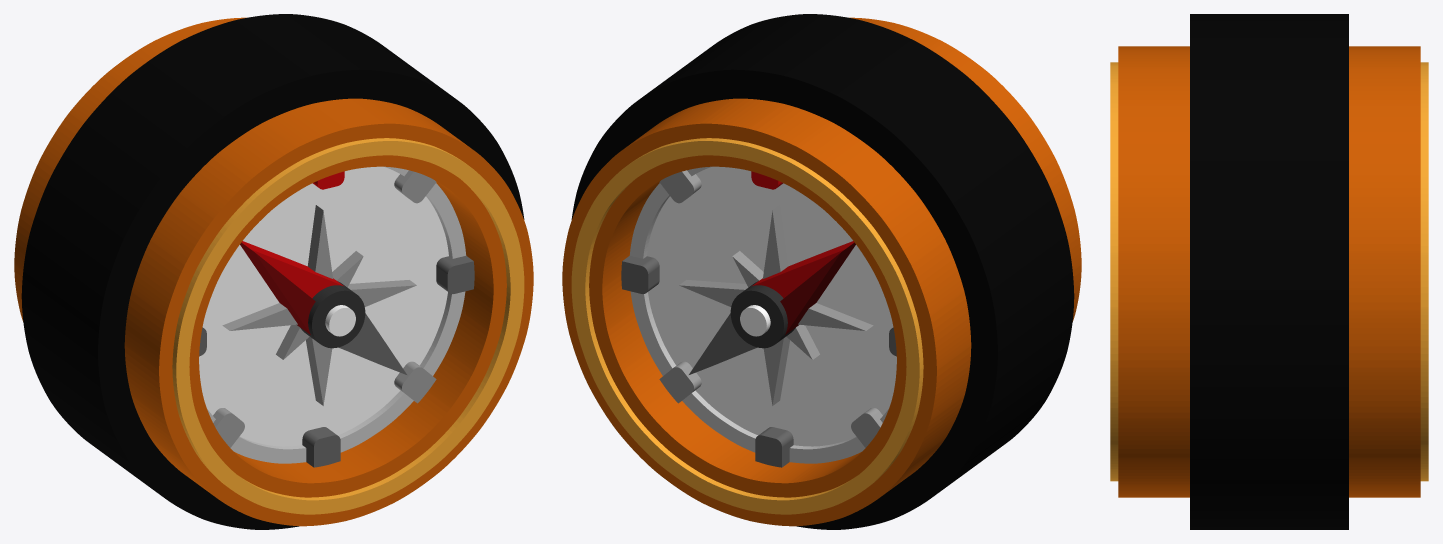
The picture shows the model from 3 angles, left to right: view 1: azimuth 30°, elevation 25°; view 2: azimuth 150°, elevation 25°; view 3: azimuth 270°, elevation 25°; orthographic projection. The views are drawn at different scales.
Visible parts, largest first — view 1: U+1F9ED_layer00_obj00, U+1F9ED_layer09_obj00, U+1F9ED_layer01_obj00, U+1F9ED_layer10_obj00, U+1F9ED_layer03_obj00, U+1F9ED_layer02_obj00, U+1F9ED_layer04_obj00, U+1F9ED_layer07_obj00, U+1F9ED_layer05_obj00, U+1F9ED_layer06_obj00, U+1F9ED_layer08_obj00; view 2: U+1F9ED_layer00_obj00, U+1F9ED_layer09_obj00, U+1F9ED_layer01_obj00, U+1F9ED_layer10_obj00, U+1F9ED_layer03_obj00, U+1F9ED_layer02_obj00, U+1F9ED_layer04_obj00, U+1F9ED_layer07_obj00, U+1F9ED_layer05_obj00, U+1F9ED_layer06_obj00, U+1F9ED_layer08_obj00; view 3: U+1F9ED_layer00_obj00, U+1F9ED_layer09_obj00, U+1F9ED_layer10_obj00.
Part boxes in pixels (x1=…): U+1F9ED_layer00_obj00: x1=21, y1=14, x2=524, y2=529; U+1F9ED_layer09_obj00: x1=14, y1=17, x2=533, y2=526; U+1F9ED_layer01_obj00: x1=199, y1=166, x2=448, y2=446; U+1F9ED_layer10_obj00: x1=172, y1=138, x2=524, y2=514; U+1F9ED_layer03_obj00: x1=213, y1=170, x2=436, y2=447; U+1F9ED_layer02_obj00: x1=207, y1=166, x2=466, y2=463; U+1F9ED_layer04_obj00: x1=199, y1=256, x2=474, y2=467; U+1F9ED_layer07_obj00: x1=297, y1=281, x2=365, y2=348; U+1F9ED_layer05_obj00: x1=241, y1=171, x2=344, y2=298; U+1F9ED_layer06_obj00: x1=240, y1=242, x2=315, y2=334; U+1F9ED_layer08_obj00: x1=325, y1=305, x2=355, y2=336; U+1F9ED_layer00_obj00: x1=571, y1=14, x2=1074, y2=529; U+1F9ED_layer09_obj00: x1=562, y1=17, x2=1081, y2=526; U+1F9ED_layer01_obj00: x1=647, y1=166, x2=896, y2=446; U+1F9ED_layer10_obj00: x1=571, y1=138, x2=923, y2=514; U+1F9ED_layer03_obj00: x1=659, y1=170, x2=882, y2=447; U+1F9ED_layer02_obj00: x1=629, y1=166, x2=888, y2=463; U+1F9ED_layer04_obj00: x1=621, y1=256, x2=896, y2=467; U+1F9ED_layer07_obj00: x1=730, y1=281, x2=798, y2=348; U+1F9ED_layer05_obj00: x1=751, y1=171, x2=854, y2=298; U+1F9ED_layer06_obj00: x1=780, y1=242, x2=855, y2=334; U+1F9ED_layer08_obj00: x1=740, y1=305, x2=770, y2=336; U+1F9ED_layer00_obj00: x1=1190, y1=14, x2=1348, y2=529; U+1F9ED_layer09_obj00: x1=1118, y1=46, x2=1420, y2=497; U+1F9ED_layer10_obj00: x1=1110, y1=62, x2=1428, y2=481.
Bounding box in the file's own units: 0.6491 × 0.649 × 0.4.
